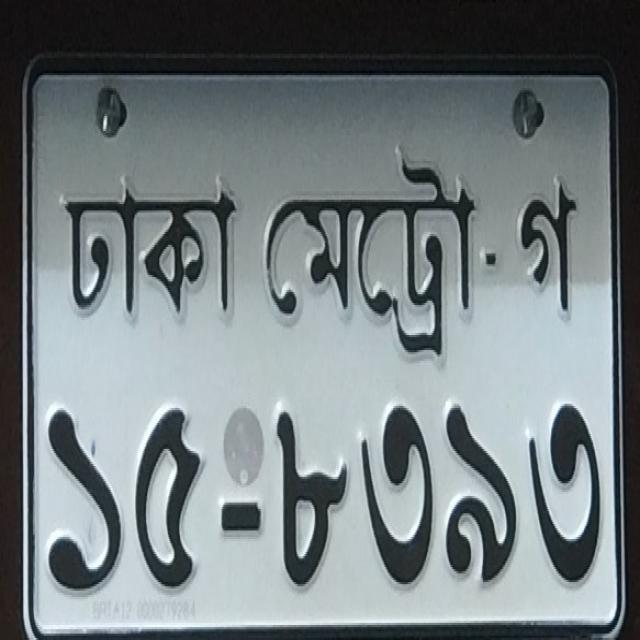numberplate: (18, 48, 627, 636)
